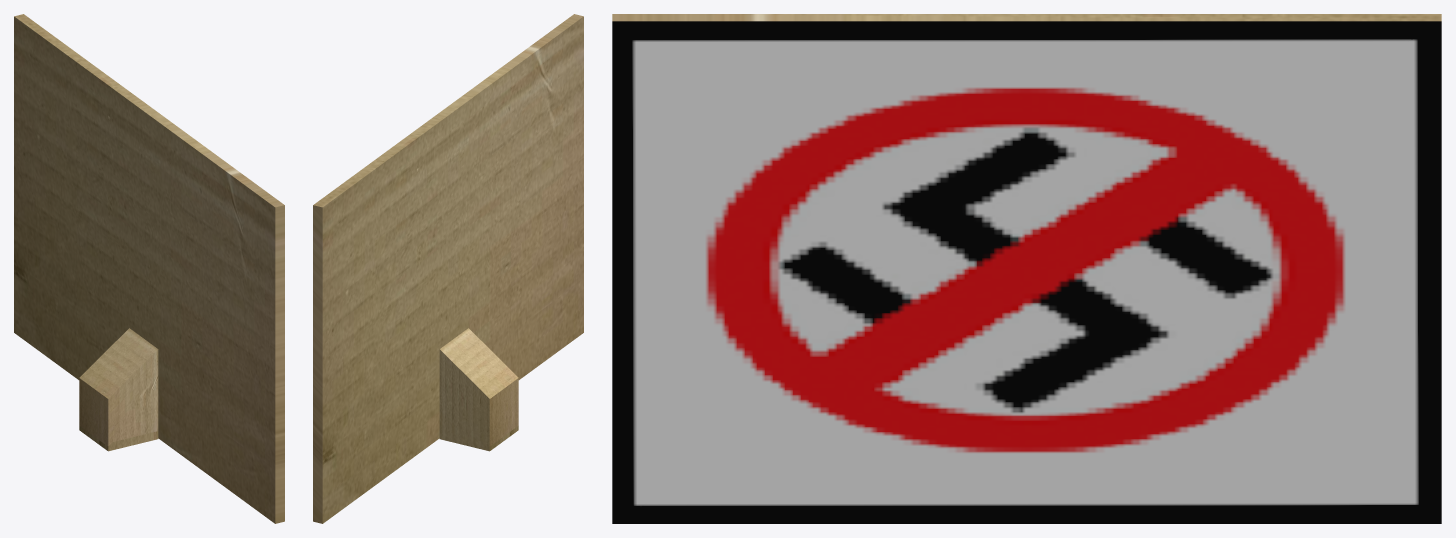
The model's file is antiswastika.fbx.
The picture shows the model from 3 angles, left to right: view 1: azimuth 30°, elevation 25°; view 2: azimuth 150°, elevation 25°; view 3: azimuth 270°, elevation 25°; orthographic projection. The views are drawn at different scales.
Parts seen in each view (by area): view 1: polySurface1; view 2: polySurface1; view 3: polySurface1.
Part boxes in pixels (box(x1,y1,x2,y2)): polySurface1: box(14, 14, 284, 523); polySurface1: box(313, 14, 583, 523); polySurface1: box(612, 14, 1441, 523).
Bounding box in the file's own units: 0.8432 × 4.21 × 6.3.
